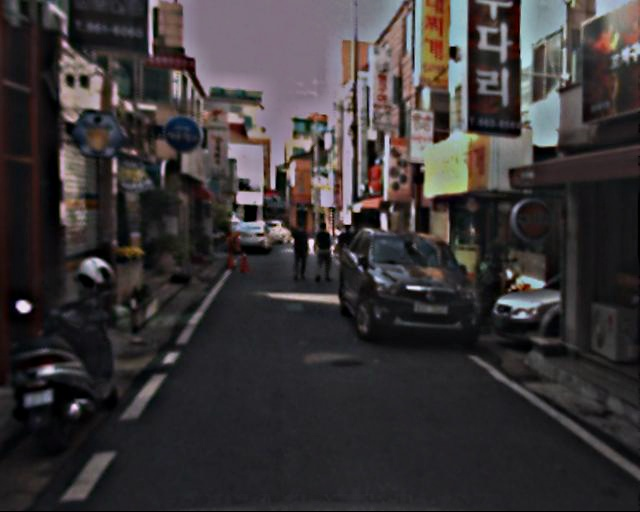person: (332, 221, 359, 287), (288, 222, 313, 284), (310, 219, 335, 281)
